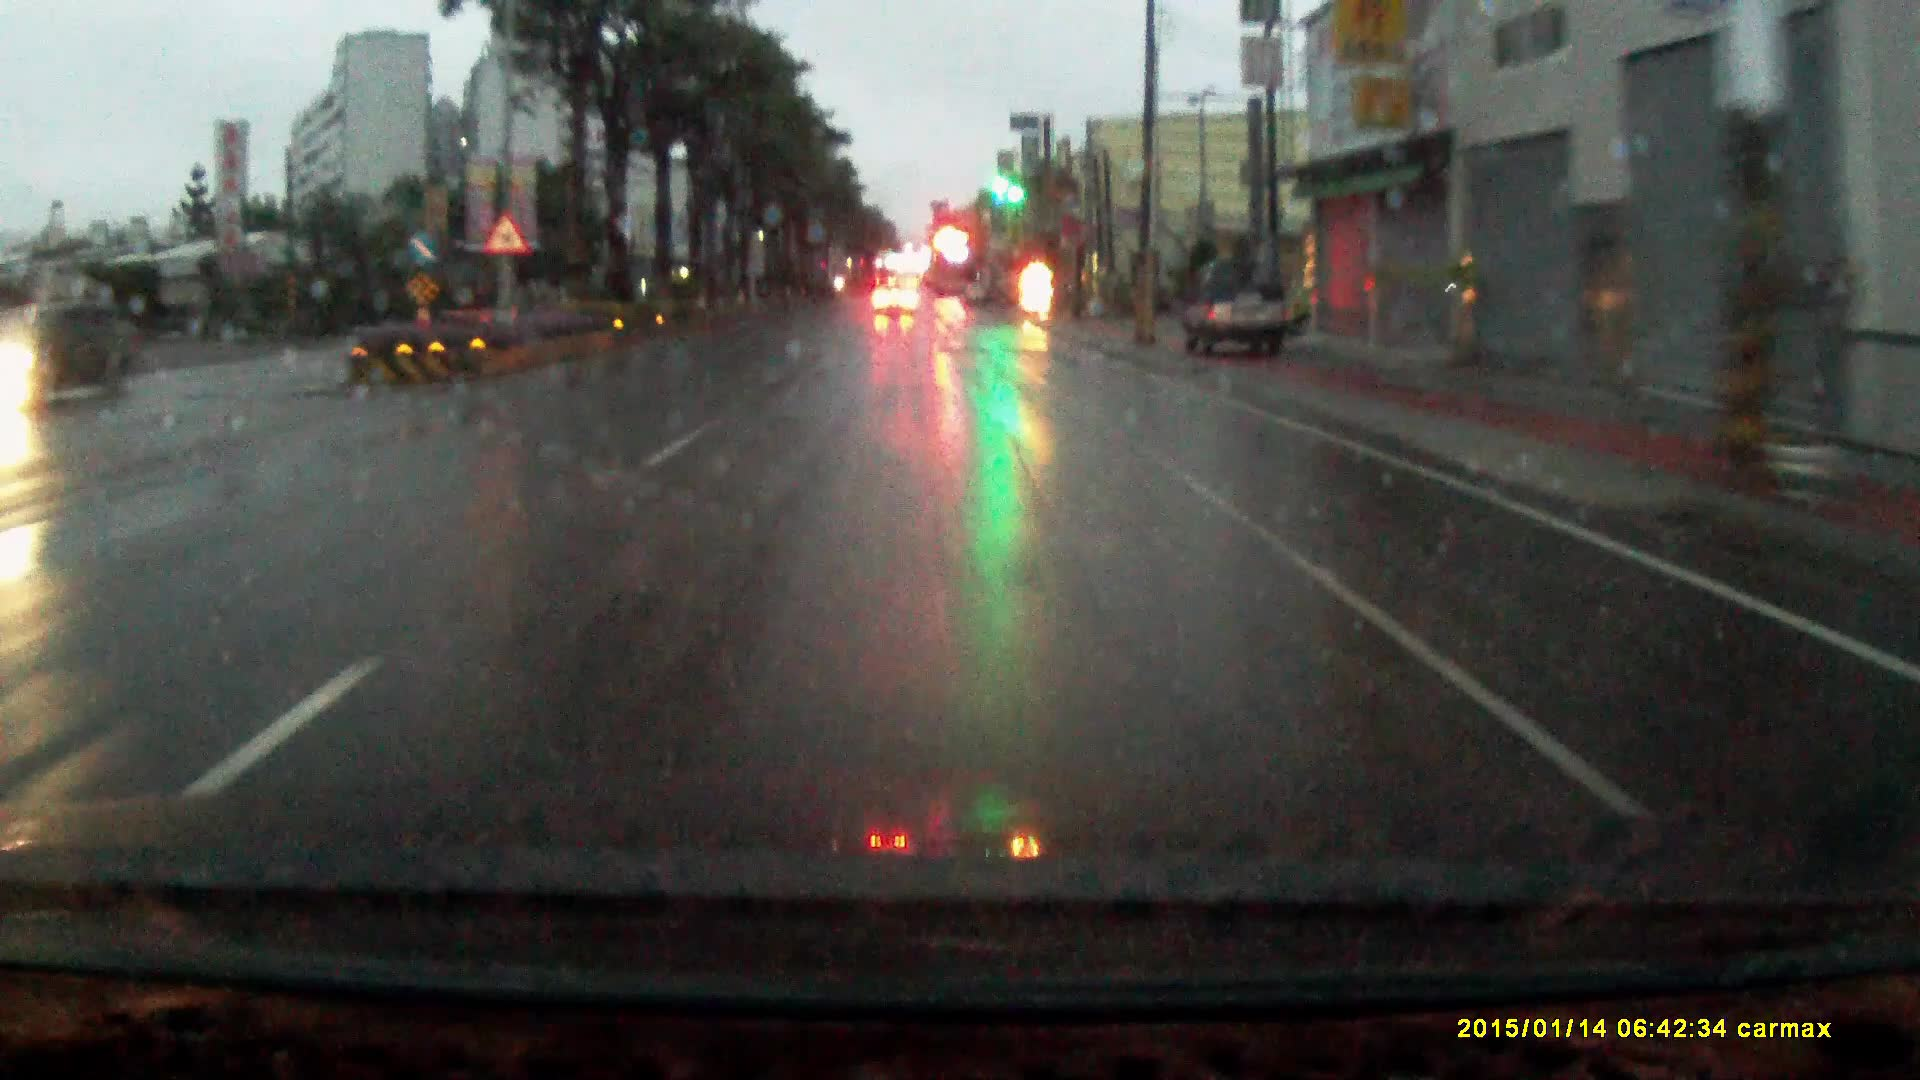vehicle: (1, 305, 148, 415), (1179, 258, 1296, 367), (872, 287, 916, 324)
